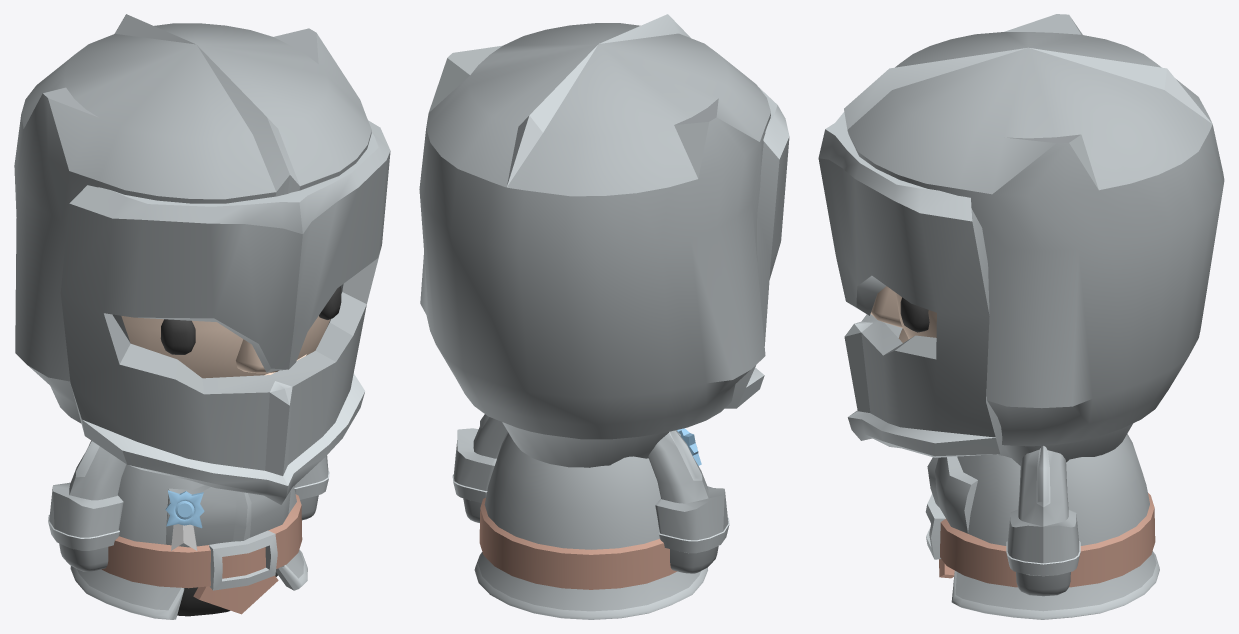
File: OldKnight.fbx
3 renders of one model, left to right at view 1: azimuth 30°, elevation 25°; view 2: azimuth 150°, elevation 25°; view 3: azimuth 270°, elevation 25°, orthographic.
Parts seen in each view (by area): view 1: character_knightHelmetVisor, character_knightHelmet, character_knight, character_knightArmRight, character_knightHead, character_knightArmLeft; view 2: character_knightHelmet, character_knight, character_knightArmRight, character_knightHelmetVisor, character_knightArmLeft; view 3: character_knightHelmet, character_knightHelmetVisor, character_knight, character_knightArmLeft, character_knightHead.
Boxes of the visible parts, <box> form: character_knightHelmetVisor: <box>60,120,390,504</box>; character_knightHelmet: <box>14,14,371,423</box>; character_knight: <box>70,464,307,619</box>; character_knightArmRight: <box>48,440,126,571</box>; character_knightHead: <box>121,286,341,378</box>; character_knightArmLeft: <box>294,455,329,520</box>; character_knightHelmet: <box>419,14,770,439</box>; character_knight: <box>474,422,707,619</box>; character_knightArmRight: <box>648,430,729,573</box>; character_knightHelmetVisor: <box>725,87,789,408</box>; character_knightArmLeft: <box>452,414,508,522</box>; character_knightHelmet: <box>844,14,1224,446</box>; character_knightHelmetVisor: <box>818,112,1006,457</box>; character_knight: <box>925,423,1159,619</box>; character_knightArmLeft: <box>1006,446,1080,596</box>; character_knightHead: <box>870,286,936,342</box>.
Size of the model in its own units: 1.21 by 1.95 by 1.33.
